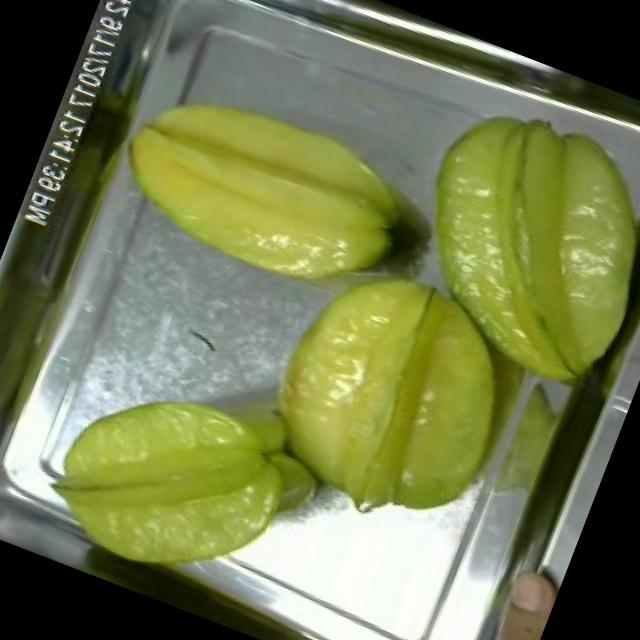fruit: (232, 222, 556, 560), (90, 54, 441, 330), (364, 72, 640, 416), (18, 342, 323, 620), (434, 544, 566, 640)
